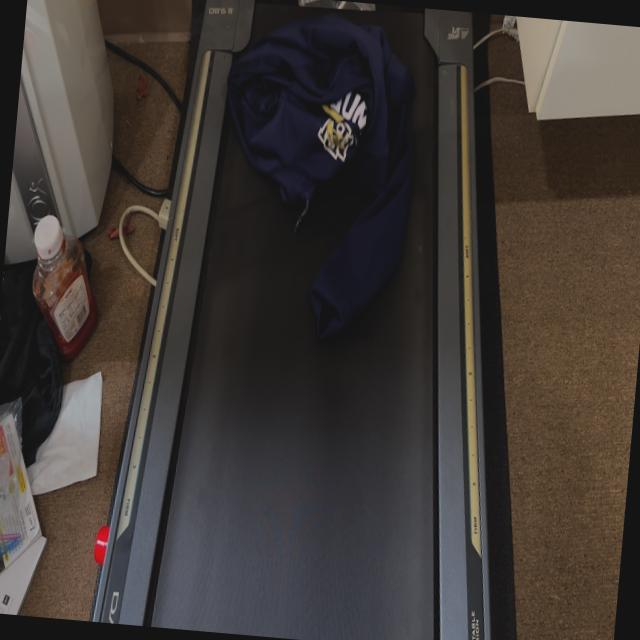Trash: (201, 0, 426, 333)
